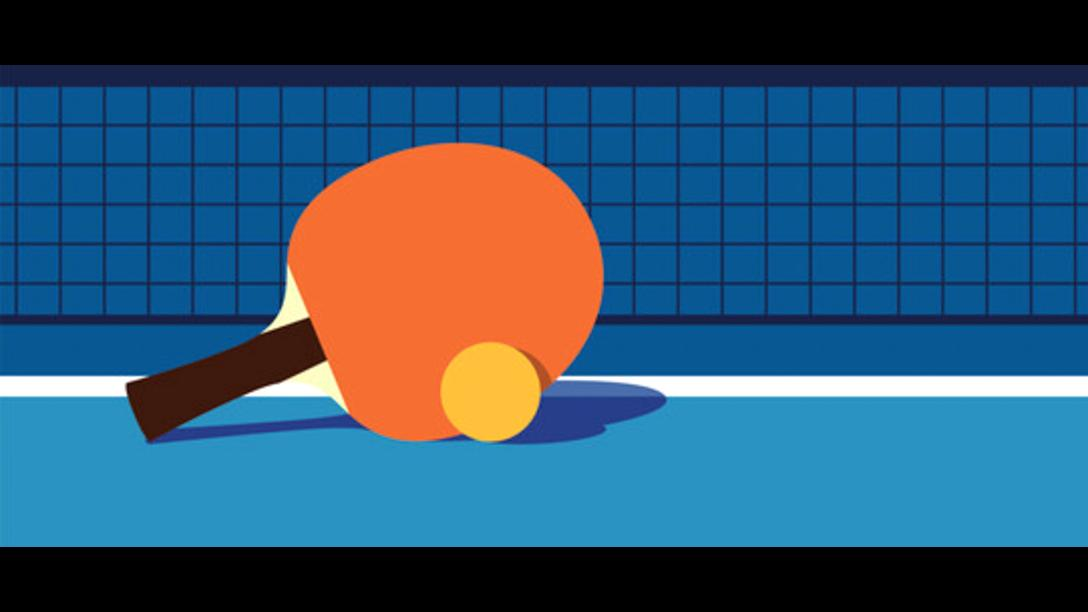Table-Tennis-Ball: (442, 341, 540, 439)
